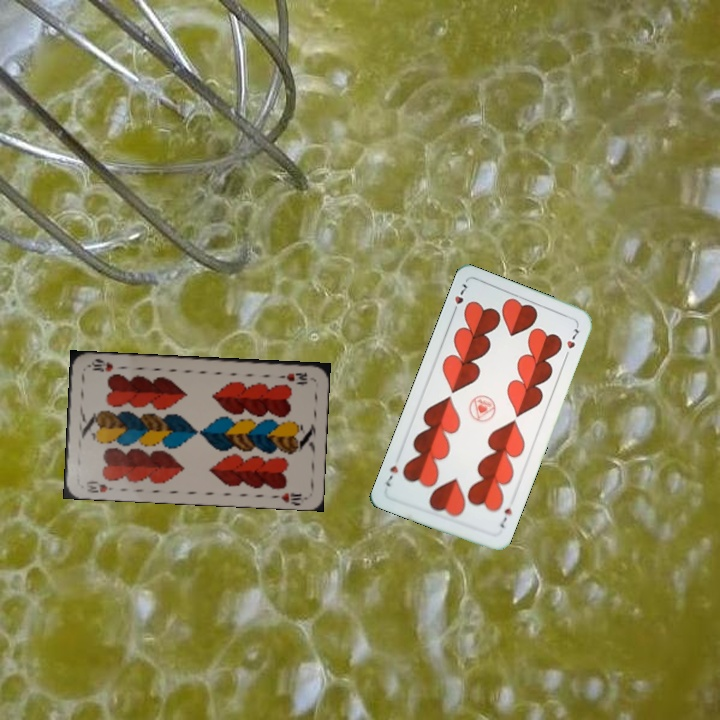H10: (82, 477, 116, 495), (275, 368, 310, 385)
H7: (448, 279, 470, 317), (495, 503, 514, 531)
